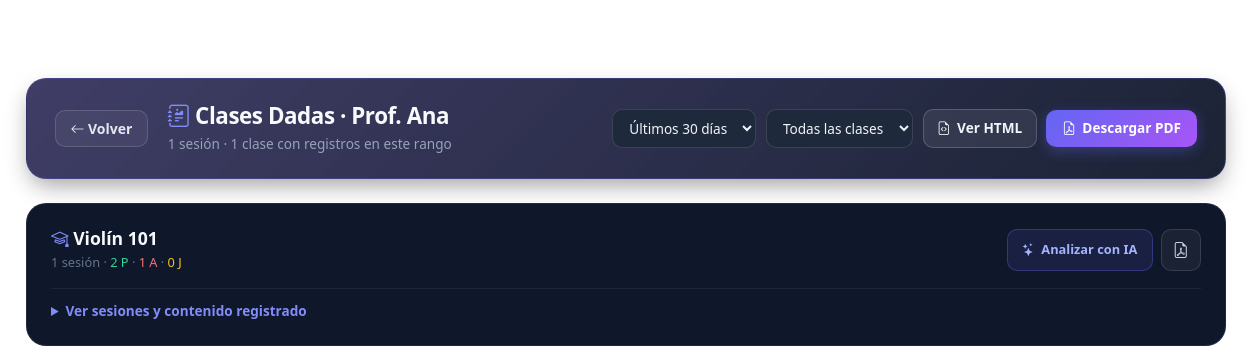
MaestroClasesContenidoView › si el análisis falla, muestra el error sin inventar un veredicto
The width and height of the screenshot is (1253, 346).
Click the button with class "btn-analizar-ia" at (1080, 250), box [1007,229,1153,271]
(page scrolled)
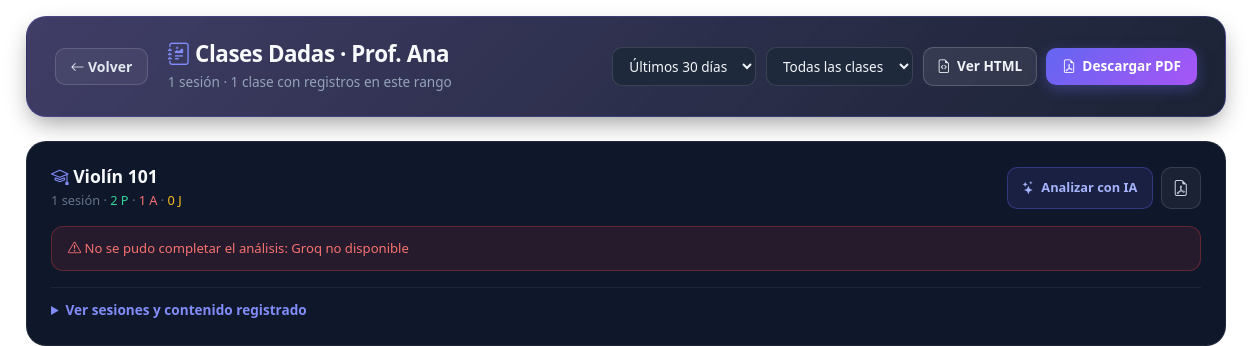
expect the element with id "test-container" shows "No se pudo completar el análisis": met, box [81,239,409,257]
expect the element with id "test-container" shows "Groq no disponible": met, box [81,239,409,257]
